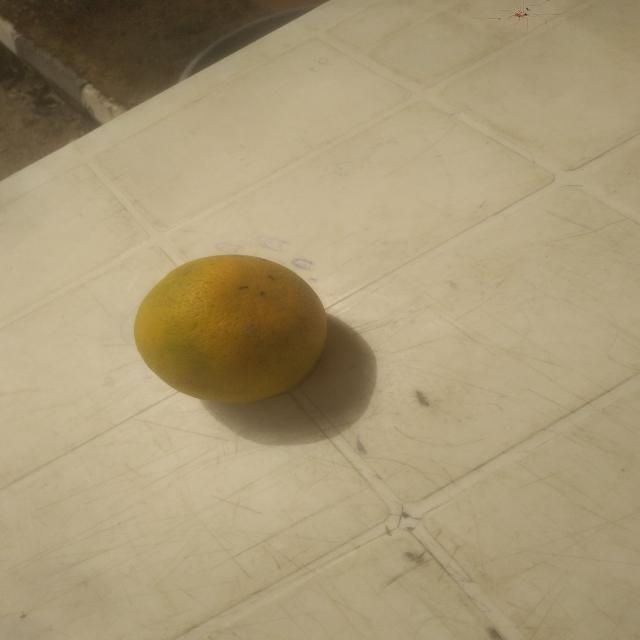agrume: (117, 238, 371, 437)
